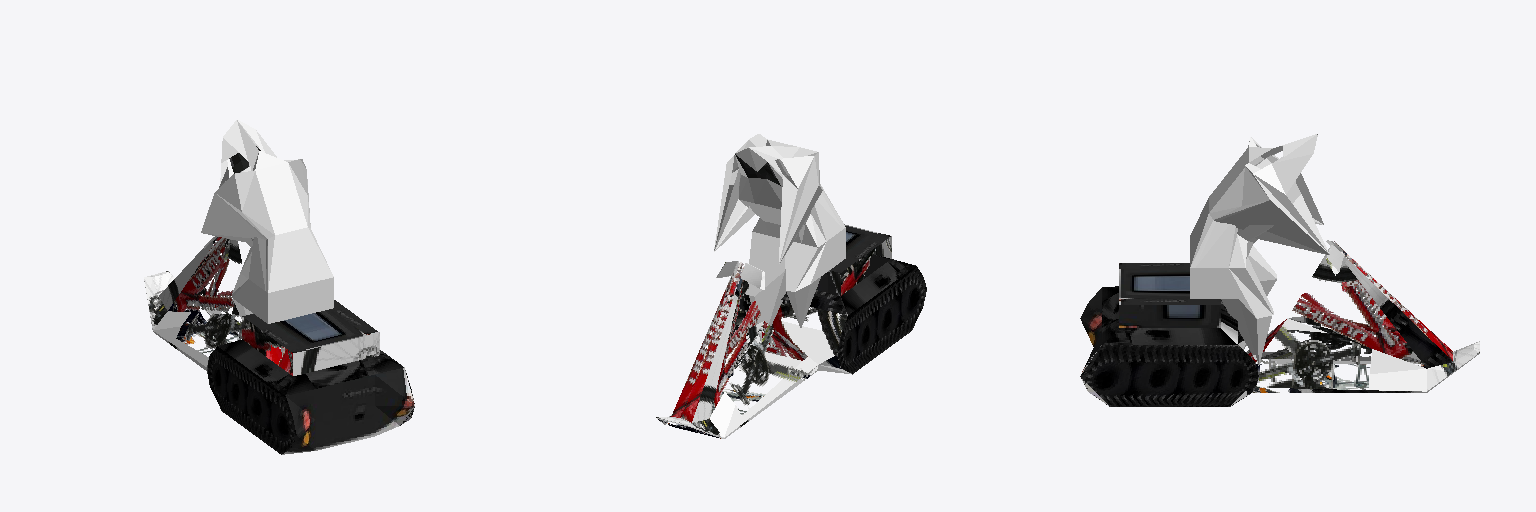
3 renders of one model, left to right at view 1: azimuth 30°, elevation 25°; view 2: azimuth 150°, elevation 25°; view 3: azimuth 270°, elevation 25°, orthographic.
Visible parts, largest first — view 1: Cube, Cube.001_Cube.003; view 2: Cube, Cube.001_Cube.003; view 3: Cube, Cube.001_Cube.003.
Part boxes in pixels (bbox=[...]): Cube: bbox=[144, 236, 414, 454]; Cube.001_Cube.003: bbox=[201, 120, 333, 354]; Cube: bbox=[656, 224, 926, 438]; Cube.001_Cube.003: bbox=[714, 134, 845, 340]; Cube: bbox=[1080, 240, 1479, 406]; Cube.001_Cube.003: bbox=[1190, 134, 1329, 365].
Bounding box in the file's own units: 2.7 × 5.33 × 7.88.
Materials: 2 (1 with a texture image).